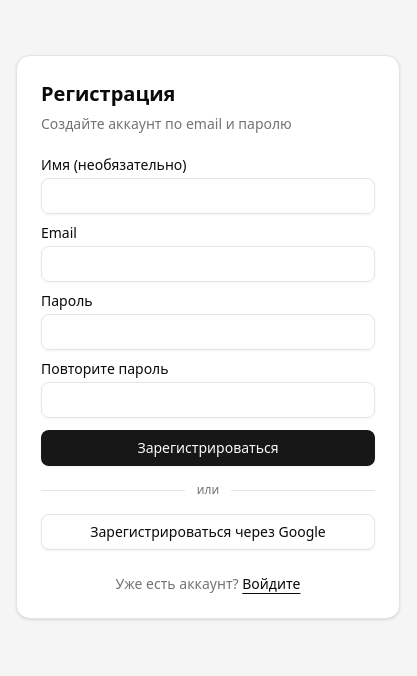
Test: RegisterPage › explains a 409 duplicate email
The width and height of the screenshot is (417, 676).
Type "Тест" into the field labelled "Имя (необязательно)" at (208,196), box [41,178,375,214]
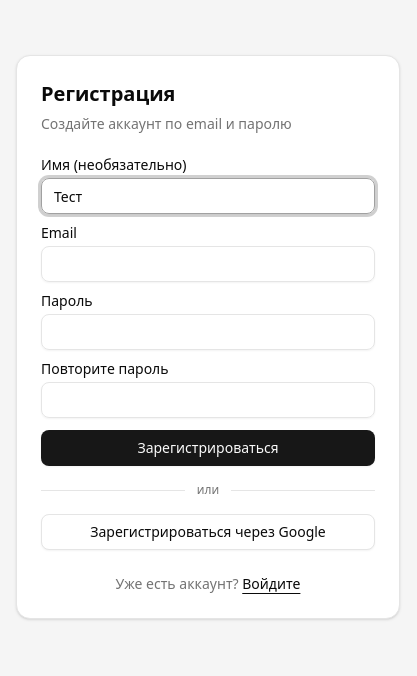
Type "new@example.com" into the field labelled "Email" at (208,264), box [41,246,375,282]
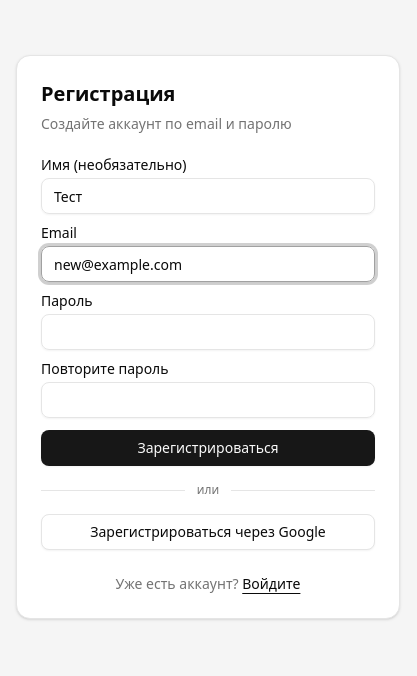
Type "s3cret-password" into the password field labelled "Пароль" at (208,332), box [41,314,375,350]
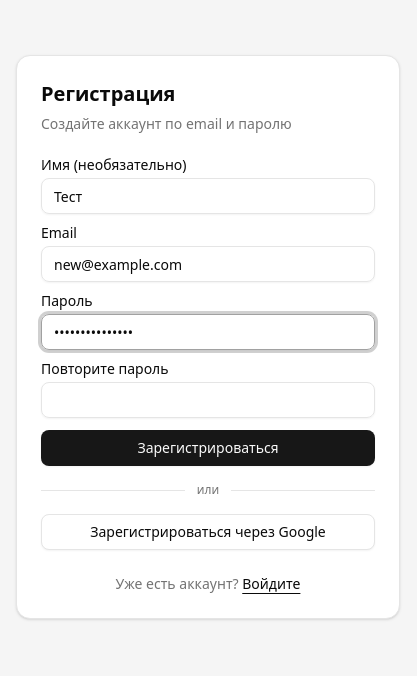
Type "s3cret-password" into the password field labelled "Повторите пароль" at (208,400), box [41,382,375,418]
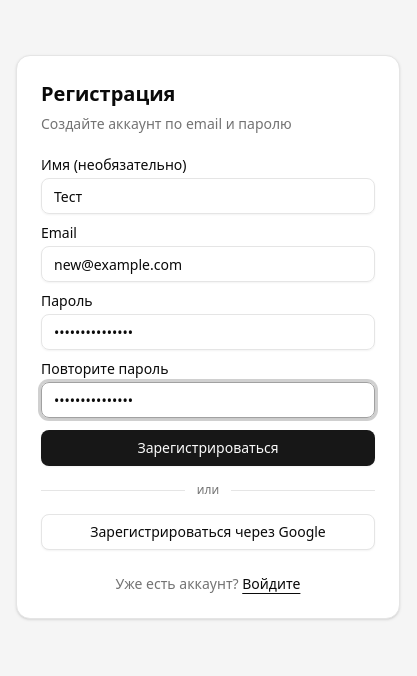
Click the button "Зарегистрироваться" at (208,448), box [41,430,375,466]
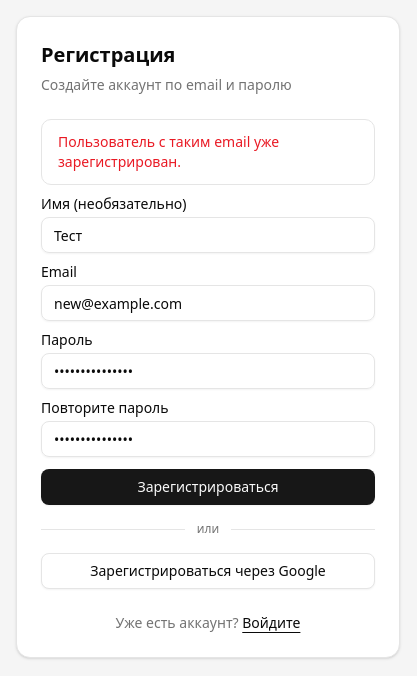
Result: the text "Пользователь с таким email уже зарегистрирован." is shown at [58,132,279,171]
